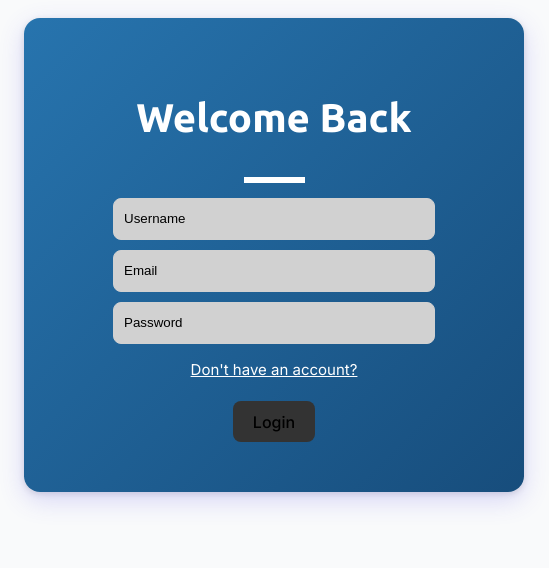
it: LoginSignup Component › Login Functionality › should handle network errors during login
Type "test@example.com" into the field with placeholder "Email".
click(274, 271); type("test@example.com")  # box [113,250,435,292]
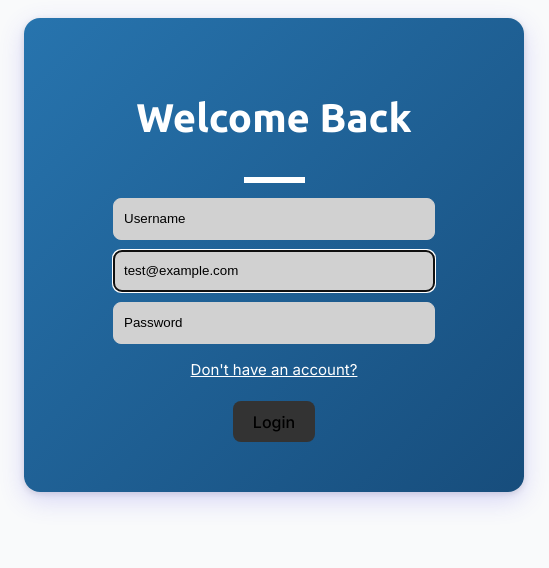
Type "password123" into the password field with placeholder "Password".
click(274, 323); type("password123")  # box [113,302,435,344]
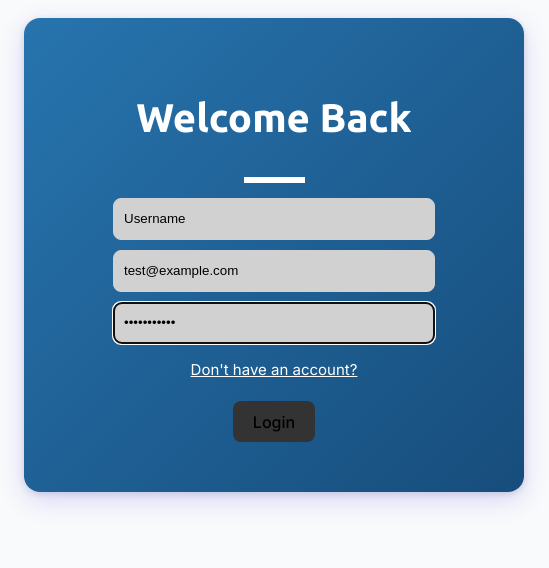
Click the button "Login".
click(274, 422)  # box [233,401,315,442]
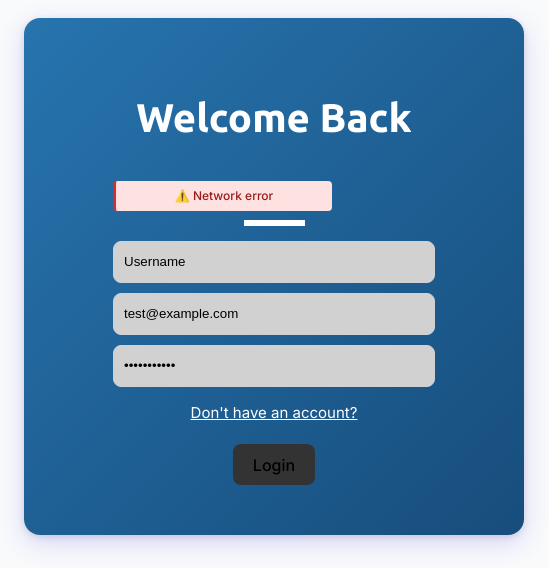
Expected: the text "⚠️ Network error" is shown, [113,181,332,211]
